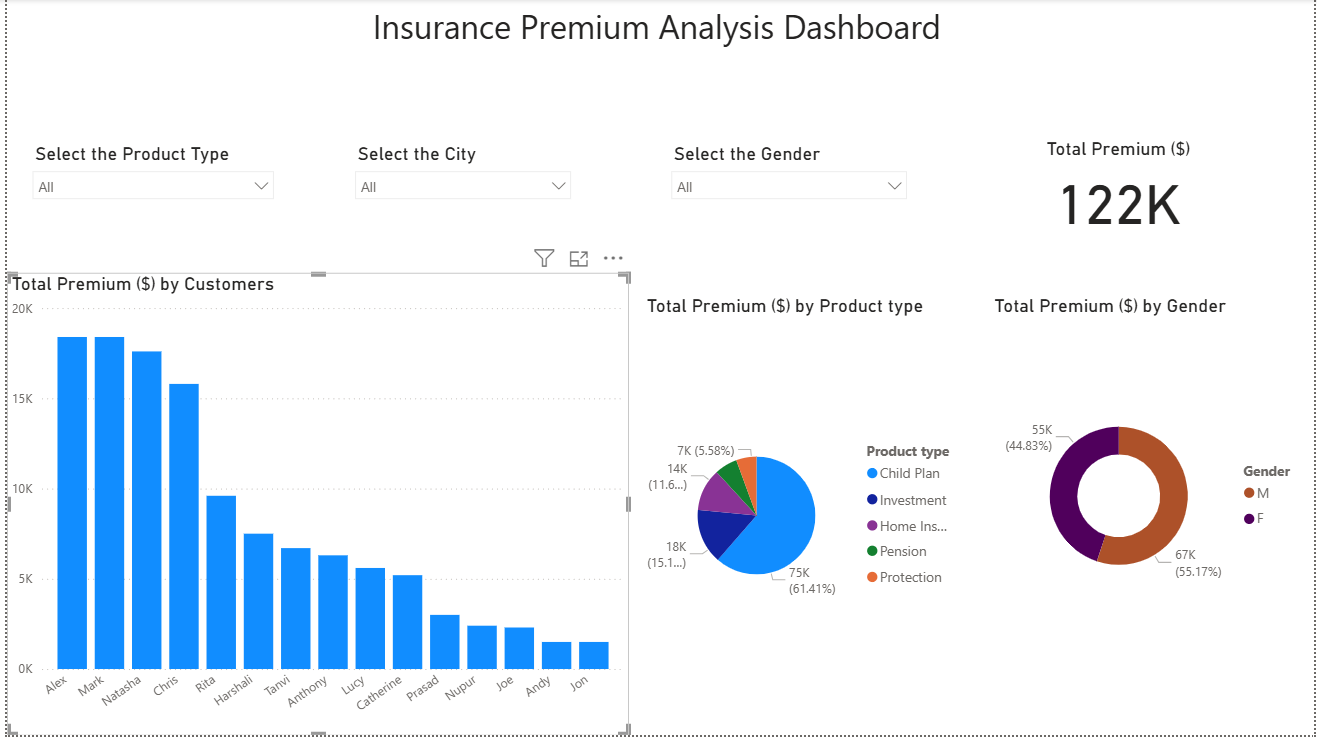

The dashboard page shown, as its layout file describes it:
{"tool":"powerbi","page":{"name":"Page 1","canvas":[1280,720],"ordinal":0},"visuals":[{"type":"slicer","fields":{"Values":["Table7114.Product type"]},"box":[15.1,135.8,256.6,86.4],"z":0},{"type":"columnChart","title":"Total Premium ($) by Customers","fields":{"Category":["Table39103.Name"],"Y":["Table1.Premium ($)"]},"box":[0,268,608.6,451.8],"z":1000},{"type":"slicer","fields":{"Values":["Table39103.City"]},"box":[330.7,135.8,231.9,96.1],"z":2000},{"type":"slicer","fields":{"Values":["Table39103.Gender"]},"box":[639.5,135.8,251.1,86.4],"z":3000},{"type":"card","title":"Total Premium ($)","fields":{"Values":["Table1.Premium ($)"]},"box":[923.5,135.8,328,96.1],"z":4000},{"type":"pieChart","title":"Total Premium ($) by Product type","fields":{"Category":["Table7114.Product type"],"Y":["Table1.Premium ($)"]},"box":[621.5,289.4,316.4,410.5],"z":5000},{"type":"donutChart","title":"Total Premium ($) by Gender","fields":{"Y":["Table1.Premium ($)"],"Category":["Table1.Gender"]},"box":[960.7,289.4,319.3,372],"z":6000},{"type":"textbox","box":[0,0,1280,62.8],"z":7000}]}

Visuals, with their boxes in screenshot pixels (x1, y1, x2, y2), scaled from the page's 1280x720 canvas onto the 1317x738 screenshot:
slicer - Table7114.Product type: bbox(16, 139, 280, 228)
"Total Premium ($) by Customers" columnChart: bbox(0, 275, 626, 737)
slicer - Table39103.City: bbox(340, 139, 579, 238)
slicer - Table39103.Gender: bbox(658, 139, 916, 228)
"Total Premium ($)" card: bbox(950, 139, 1288, 238)
"Total Premium ($) by Product type" pieChart: bbox(639, 297, 965, 717)
"Total Premium ($) by Gender" donutChart: bbox(988, 297, 1316, 678)
textbox: bbox(0, 0, 1316, 64)
